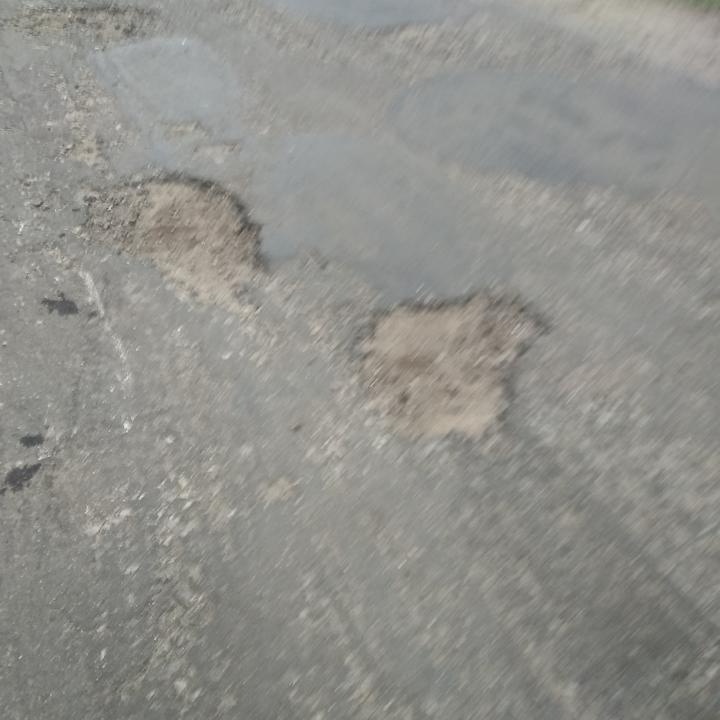pothole: (341, 281, 560, 449), (98, 168, 276, 320), (15, 0, 169, 46)
